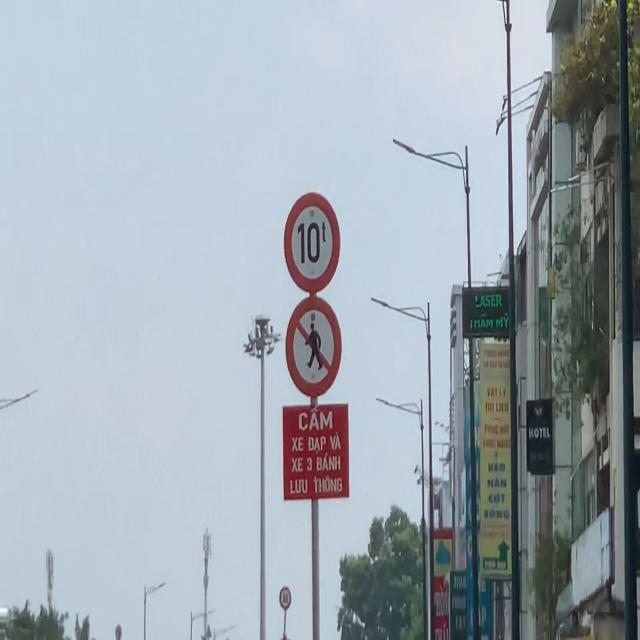Cam con lai: (285, 294, 345, 396)
Trong tai toi da: (284, 191, 339, 293)
